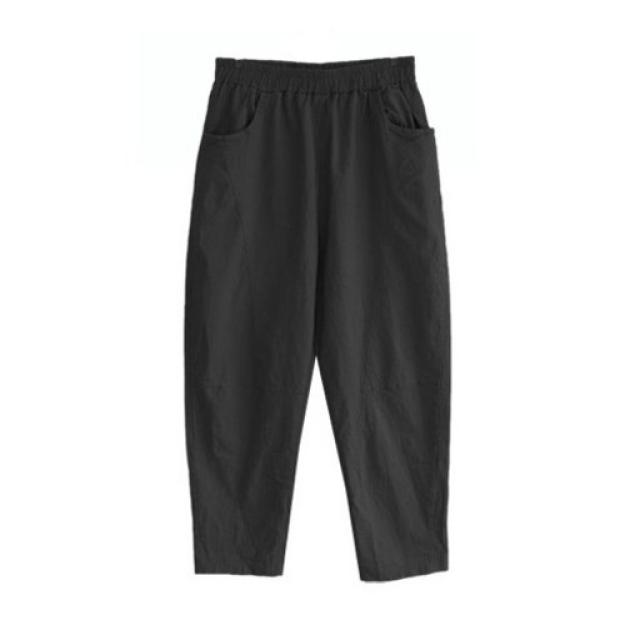long-pants: (184, 56, 454, 582)
